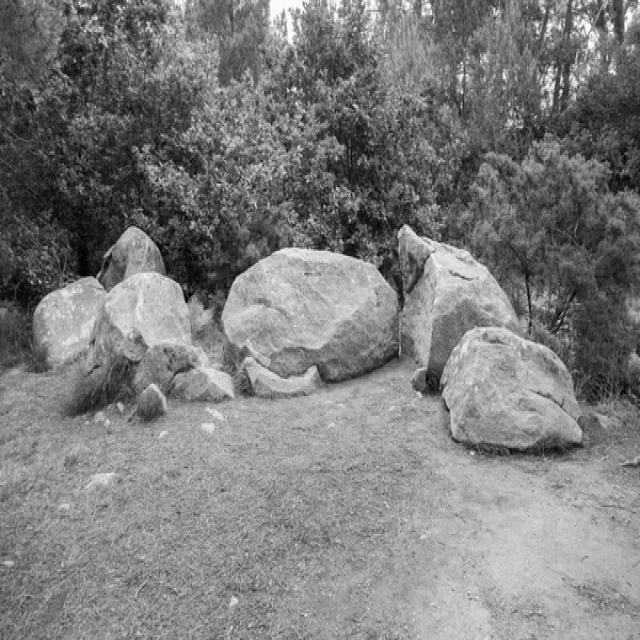Stone: (222, 248, 399, 397), (398, 224, 525, 385), (441, 328, 584, 451), (86, 273, 191, 371), (33, 276, 107, 365), (133, 340, 233, 401), (97, 226, 165, 290)
